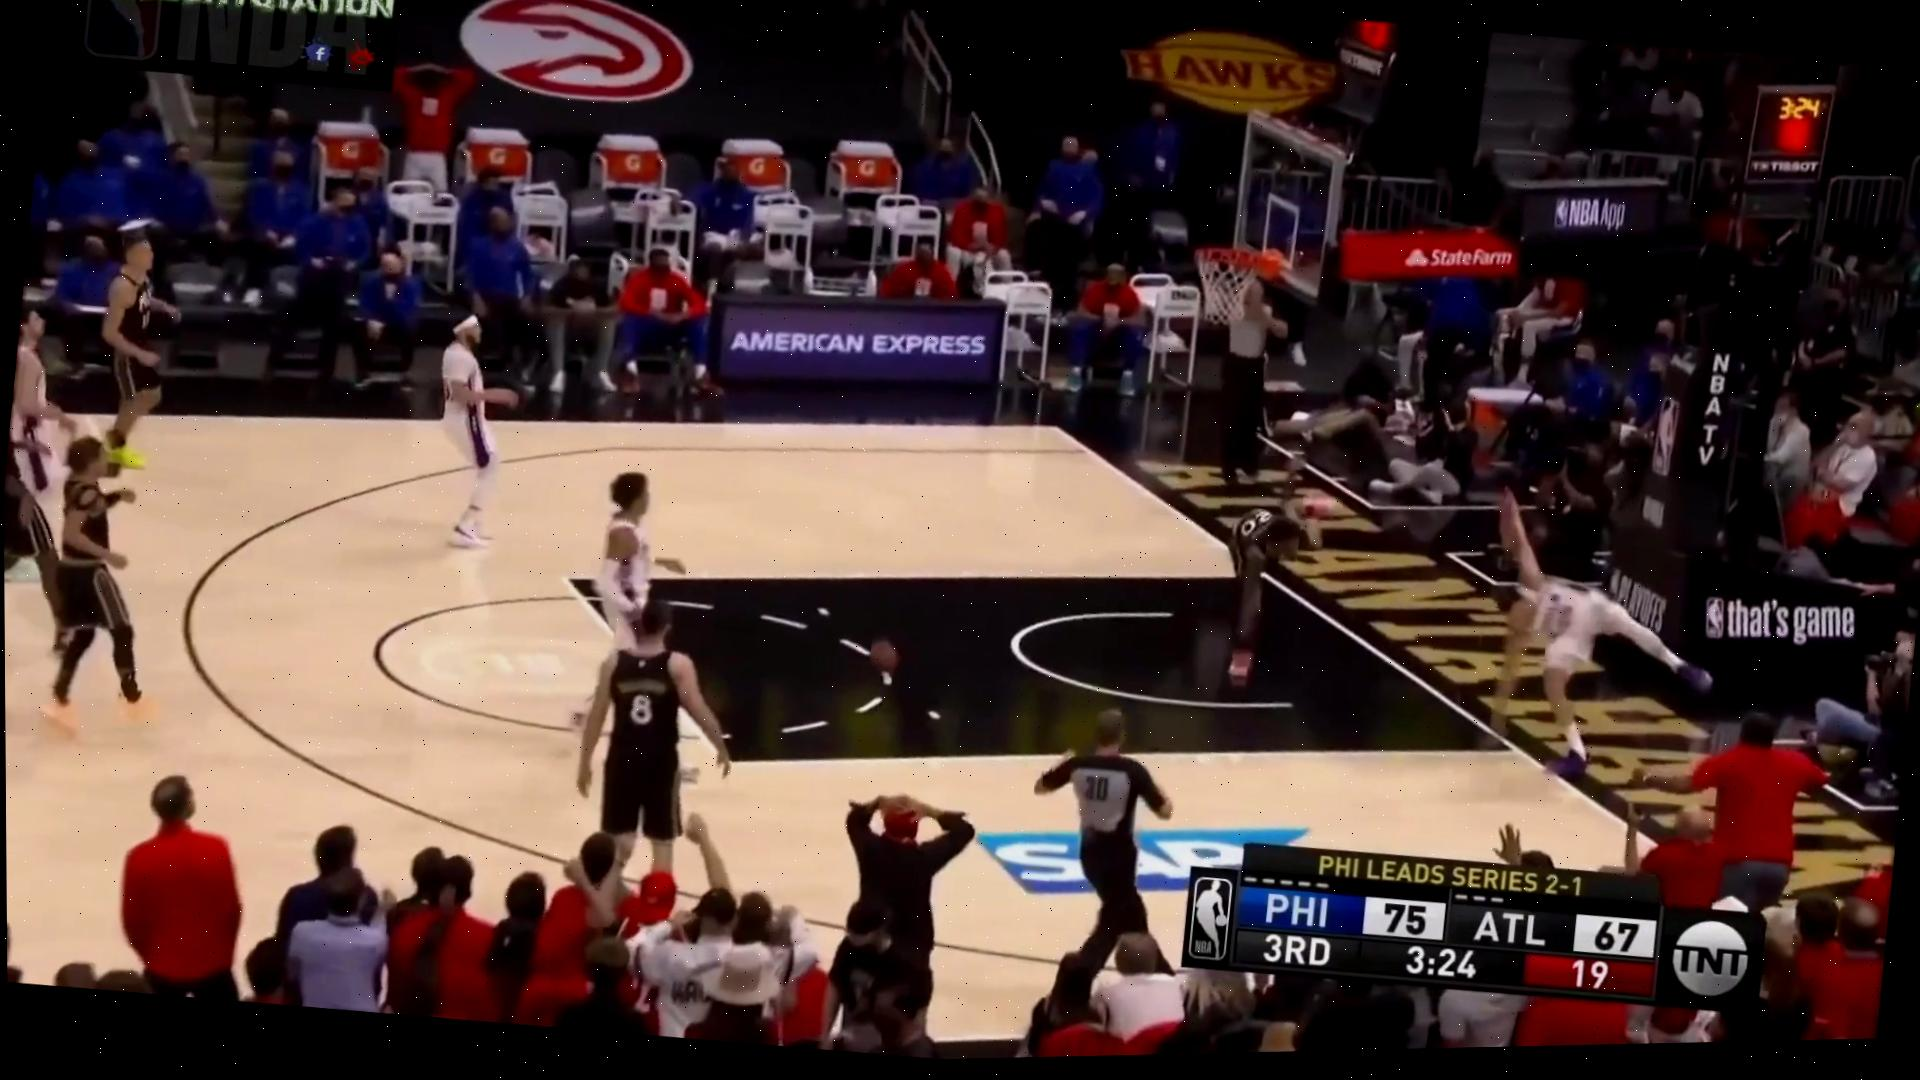no_foul: (546, 455, 771, 837)
